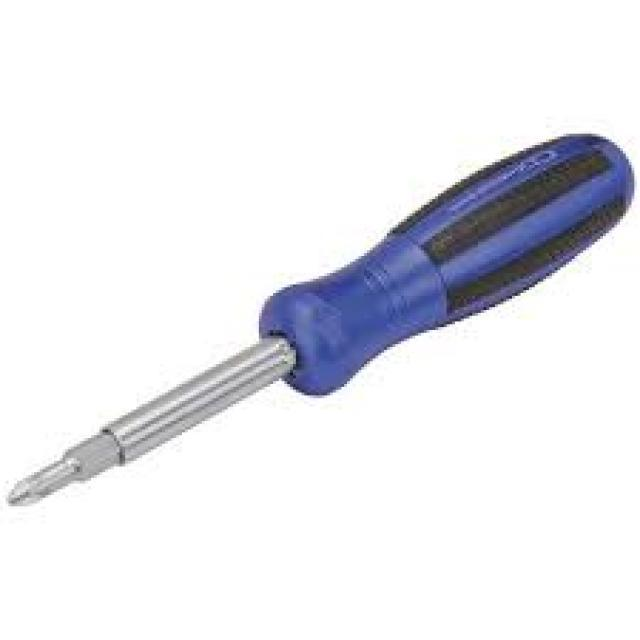screwdriver: (4, 130, 630, 507)
